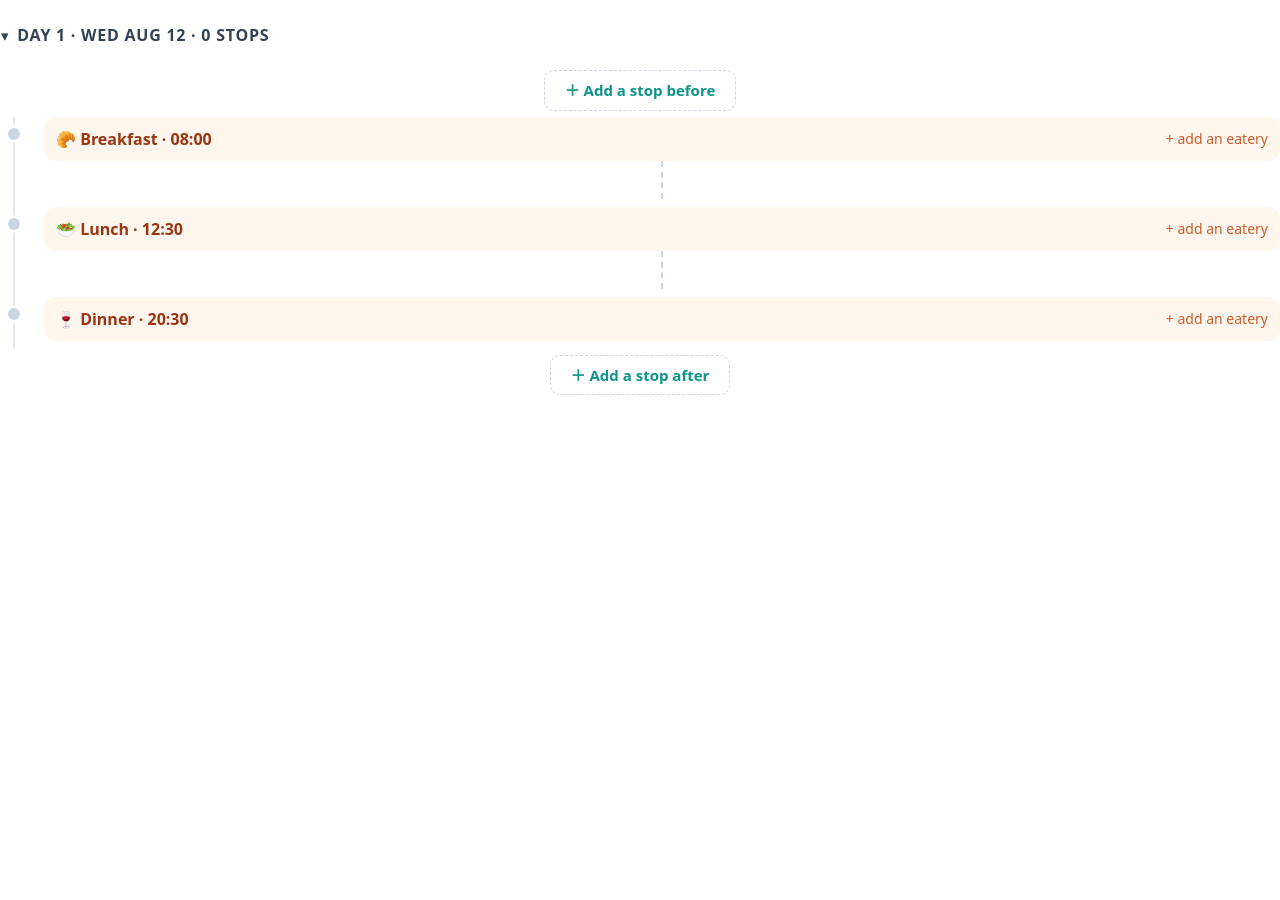
tapping a meal anchor opens the modal prefilled with nearby eateries
What coordinates should you click on to do the following:
click the button "🥐 Breakfast · 08:00 + add an eatery"
I would click on:
 (119, 138)
Its box is [44,116,1279,160].
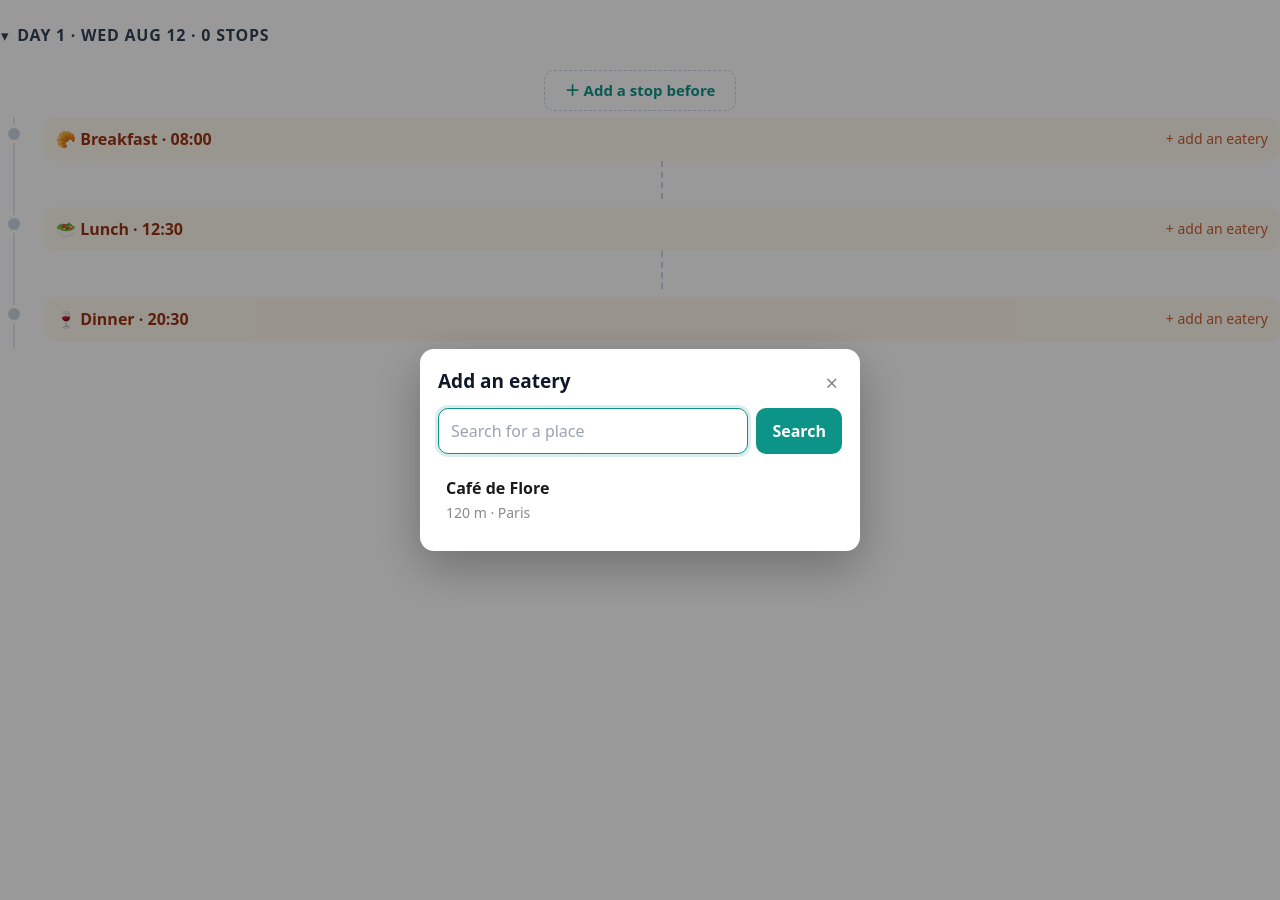
Result: the text "Café de Flore" is shown at [446,476,549,500]
Result: the dialog "Add an eatery × Search Café de Flore 120 m · Paris" is shown at [420,349,860,551]
